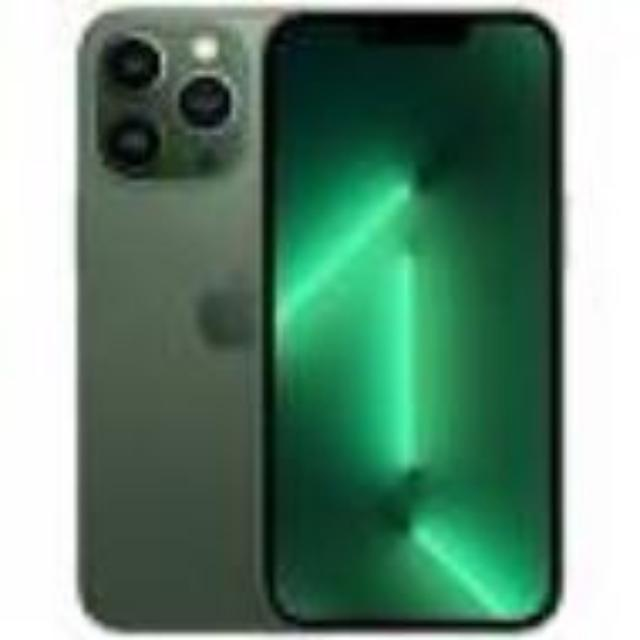phone: (265, 8, 575, 626), (65, 1, 277, 623)
